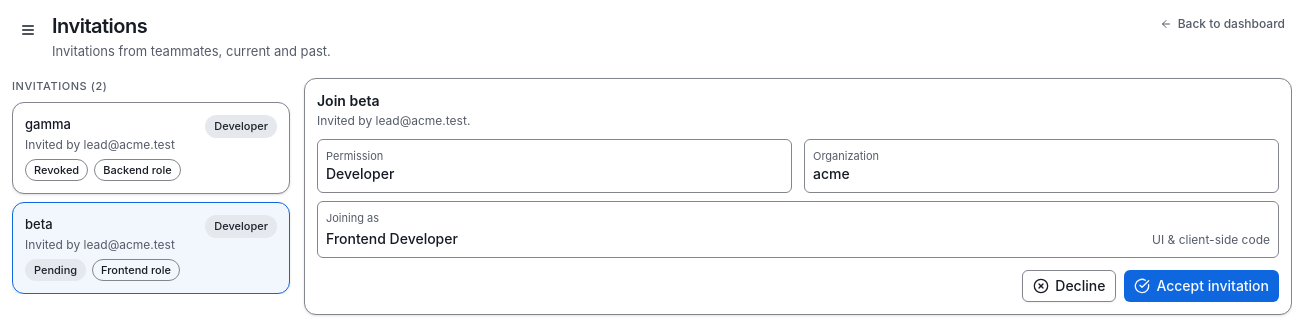
Scenario: InvitationsPage invitation lifecycle (#72) › deletes a closed invitation and re-points the pane at a live one
This screenshot has width=1292, height=333.
Expected: the heading "Join beta" is shown, left=317, top=92, right=380, bottom=108
Click the text "gamma": x=48, y=124 left=25, top=116, right=71, bottom=132
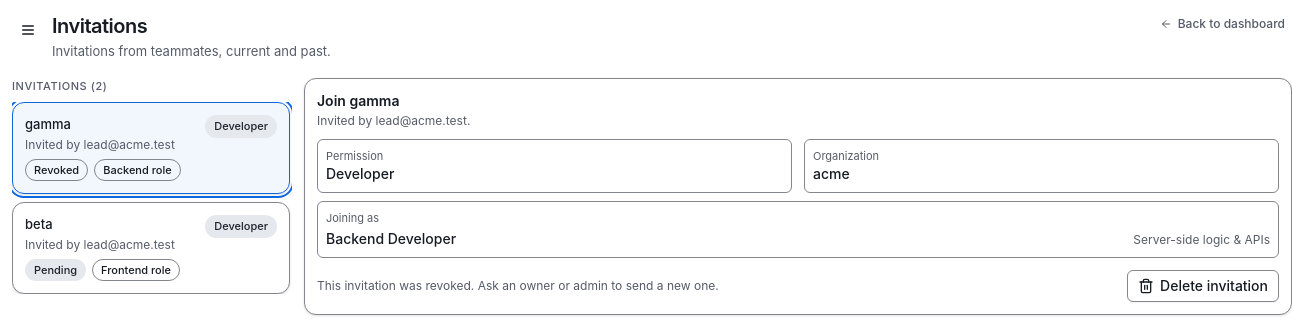
Click the button "Delete invitation": x=1203, y=286 left=1127, top=270, right=1279, bottom=302
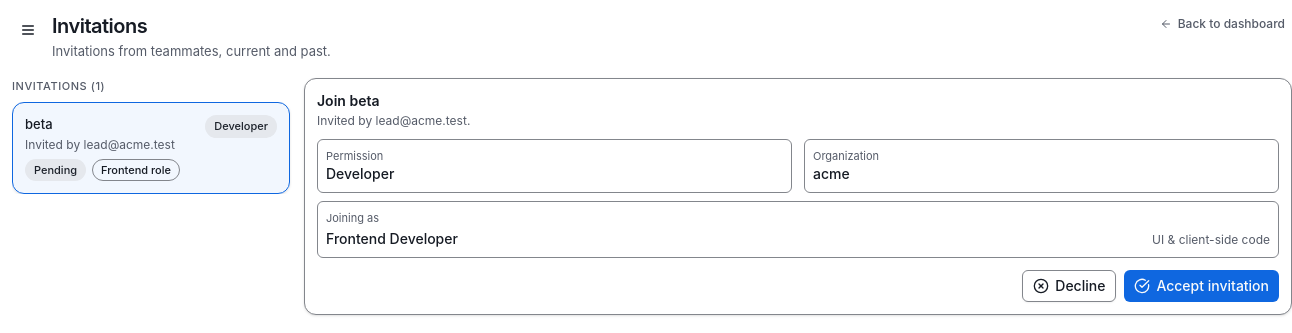
Expected: the button "gamma" is gone
Expected: the heading "Join beta" is shown, left=317, top=92, right=380, bottom=108
